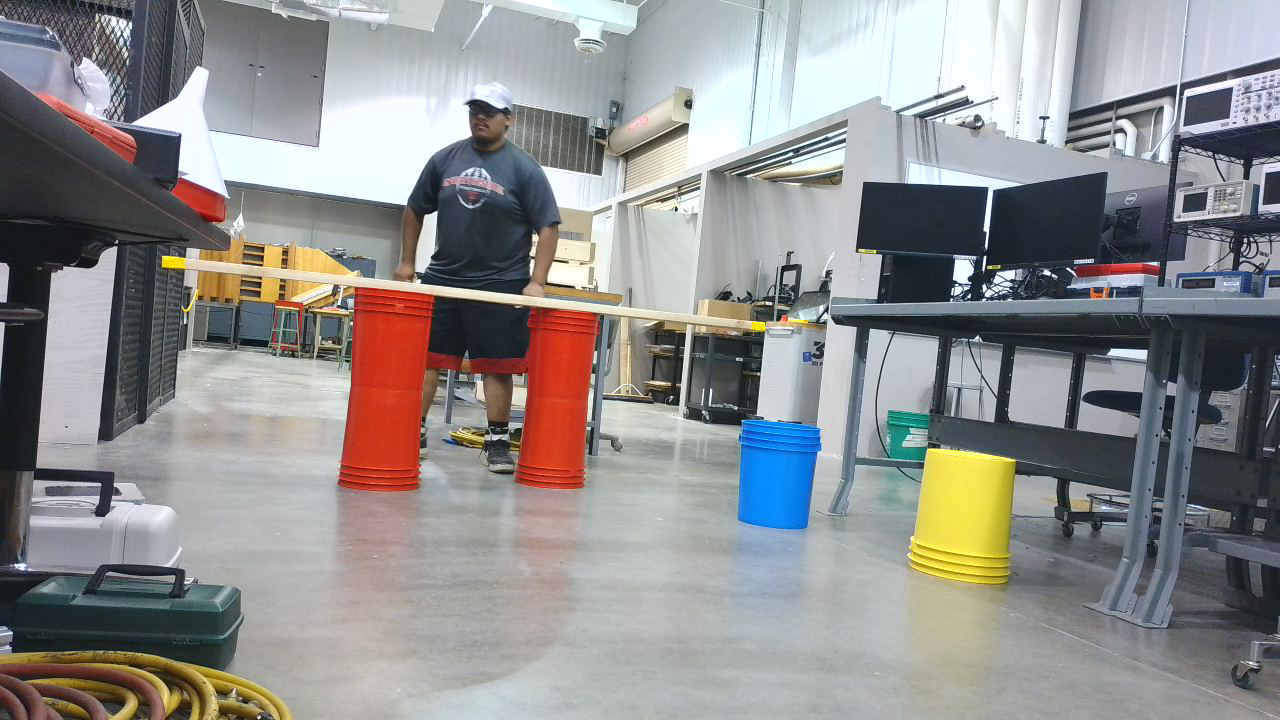blue_bucket: (740, 415, 829, 536)
red_bucket_arch: (340, 286, 610, 503)
yellow_bucket: (910, 448, 1026, 594)
